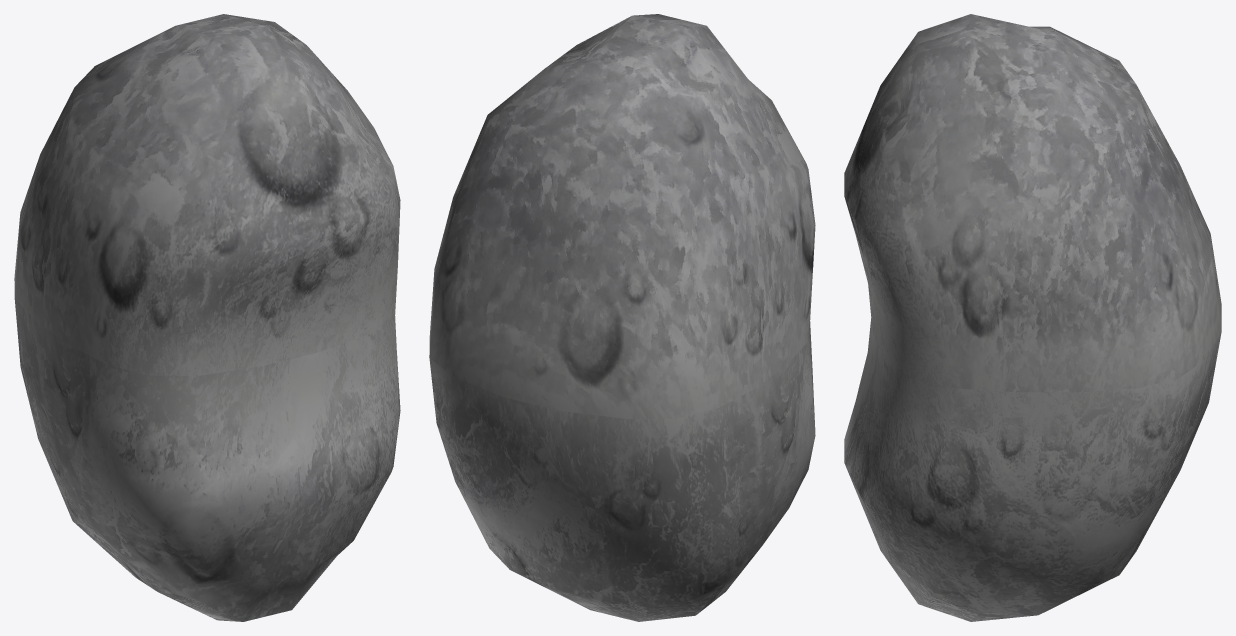
Rendered from rockI.fbx.
The picture shows the model from 3 angles, left to right: view 1: azimuth 30°, elevation 25°; view 2: azimuth 150°, elevation 25°; view 3: azimuth 270°, elevation 25°; orthographic projection.
Visible parts, largest first — view 1: polySurface2; view 2: polySurface2; view 3: polySurface2.
Boxes of the visible parts, x1,y1,x2,y2 form: polySurface2: (14,14,400,621); polySurface2: (429,14,815,621); polySurface2: (844,14,1221,621).
Bounding box in the file's own units: 226 × 413 × 242.
1 material, 1 textured.
